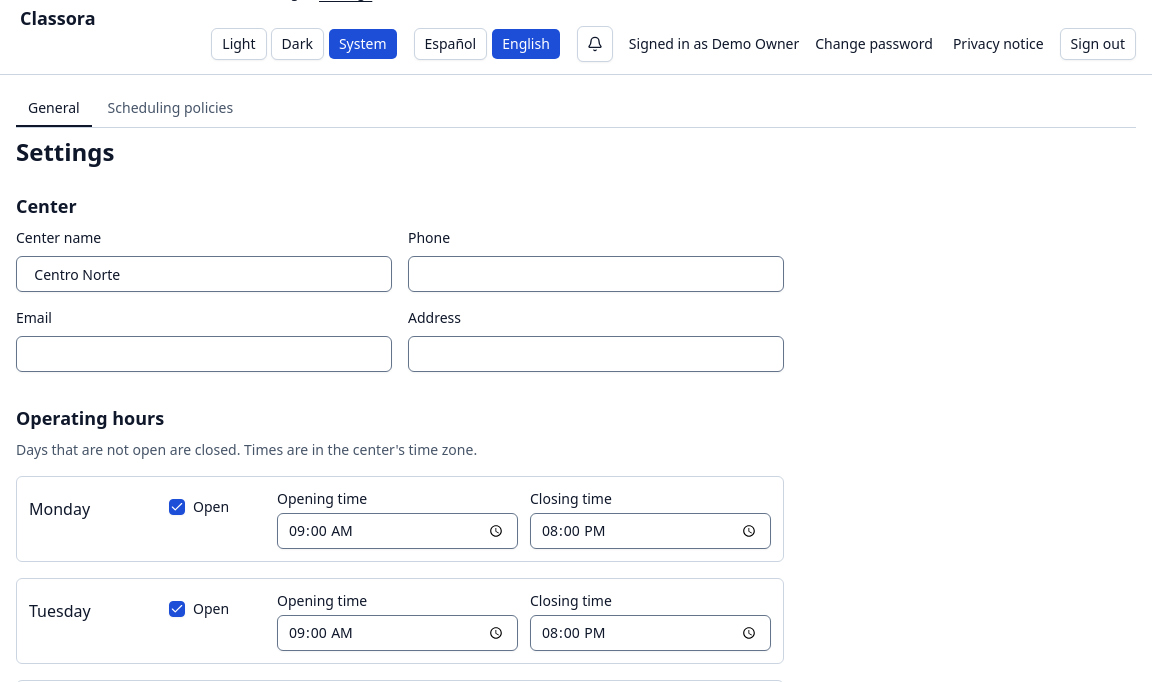
Test: the form (H3, H4) › a name change sends the version and the name only
This screenshot has width=1152, height=682.
Replace the text in the field labelled "Center name" with "  Centro Norte " at (204,274), box [16,256,392,292]
(page scrolled)
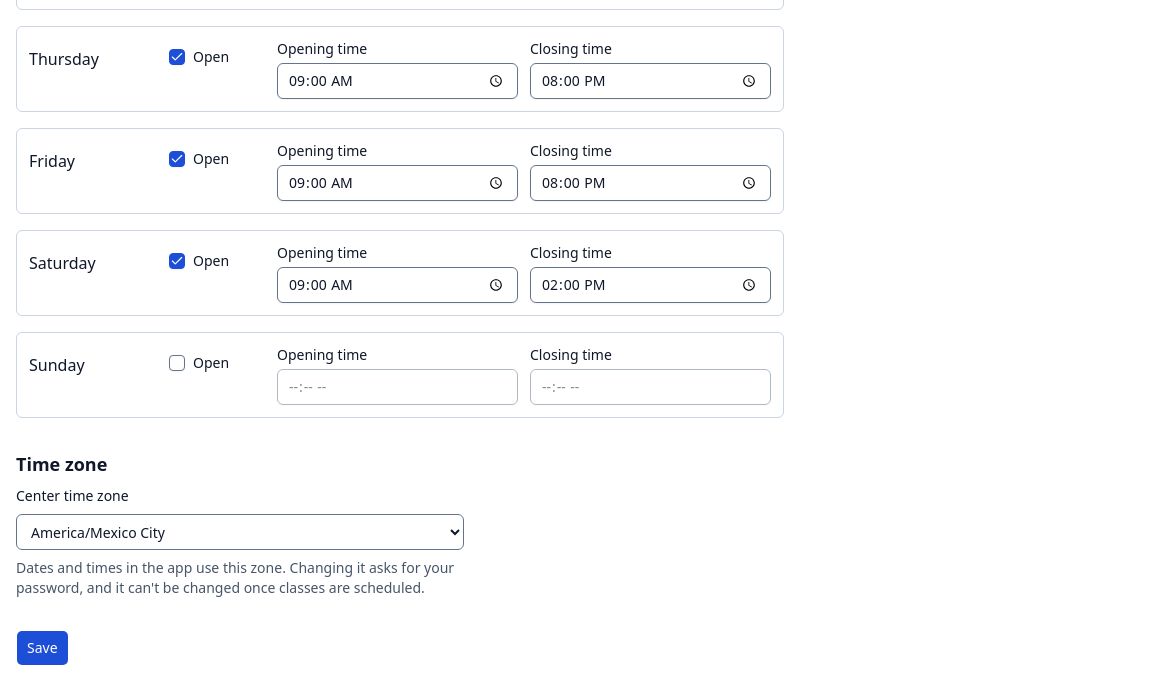
Click the button "Save" at (42,648), box [16,630,69,666]
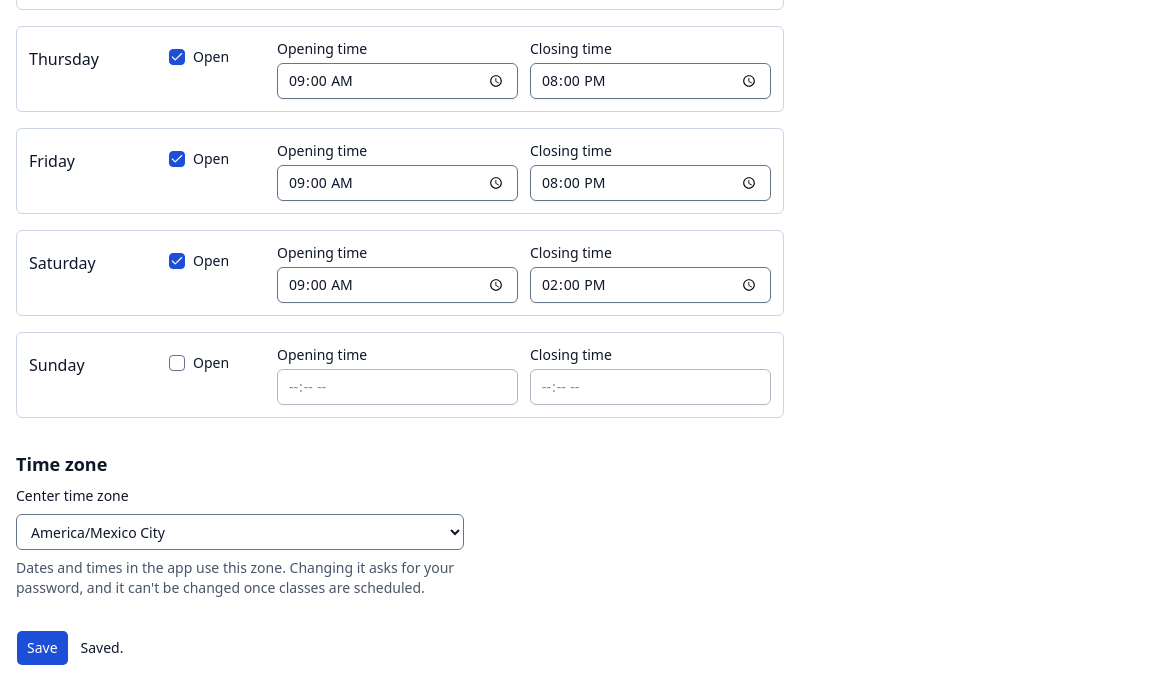
Check: the message "Saved." is shown, box [81,638,124,658]
